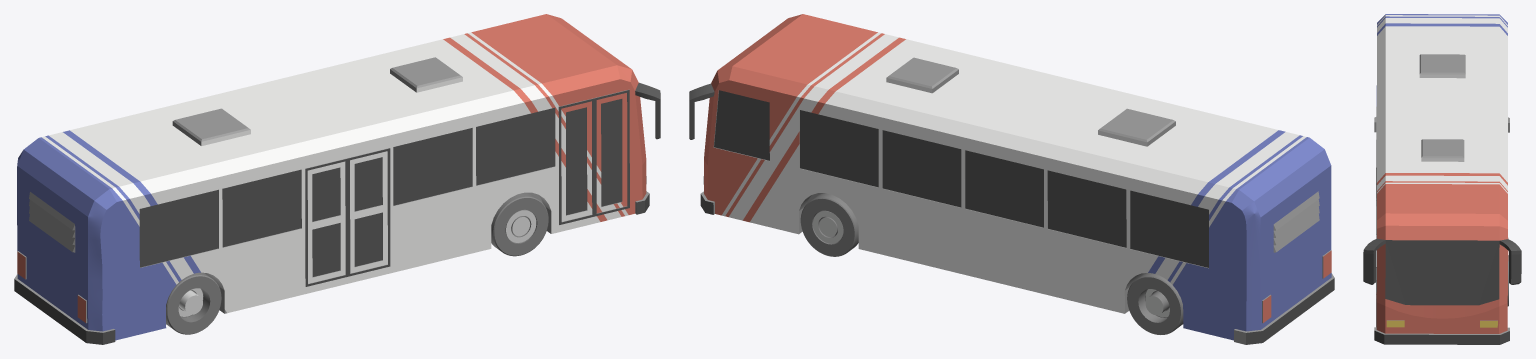
Rendered from bus.glb.
3 renders of one model, left to right at view 1: azimuth 30°, elevation 25°; view 2: azimuth 150°, elevation 25°; view 3: azimuth 270°, elevation 25°, orthographic. The views are drawn at different scales.
Parts seen in each view (by area): view 1: bus v1; view 2: bus v1; view 3: bus v1.
Part boxes in pixels (left/top/right/bottom): bus v1: left=14, top=14, right=660, bottom=344; bus v1: left=689, top=14, right=1334, bottom=344; bus v1: left=1363, top=14, right=1521, bottom=344.
Bounding box in the file's own units: 8.06 × 2.28 × 2.42.
